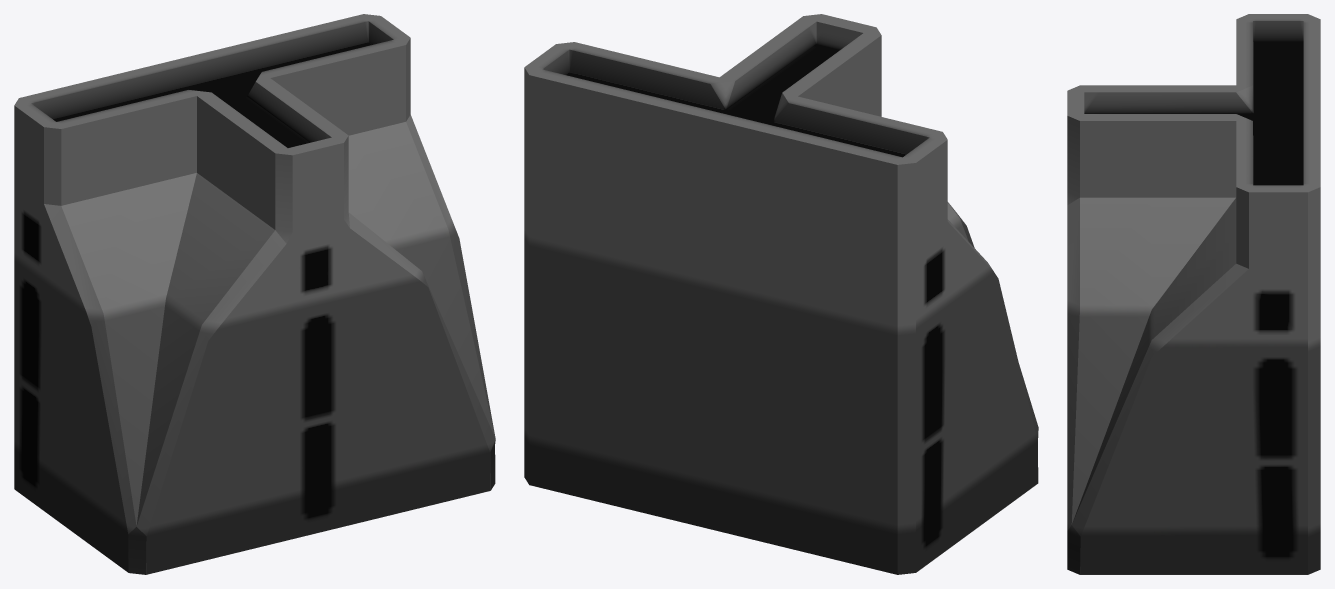
Rendered from wall_single_one_t1.fbx.
3 renders of one model, left to right at view 1: azimuth 30°, elevation 25°; view 2: azimuth 150°, elevation 25°; view 3: azimuth 270°, elevation 25°, orthographic. The views are drawn at different scales.
Visible parts, largest first — view 1: wall_single_one_t1; view 2: wall_single_one_t1; view 3: wall_single_one_t1.
Boxes of the visible parts, box(x1,y1,x2,y2) form: wall_single_one_t1: box(14, 14, 495, 574); wall_single_one_t1: box(524, 14, 1038, 574); wall_single_one_t1: box(1067, 14, 1320, 574).
Size of the model in its own units: 1 by 1 by 0.6.
Materials: 1 (1 with a texture image).
